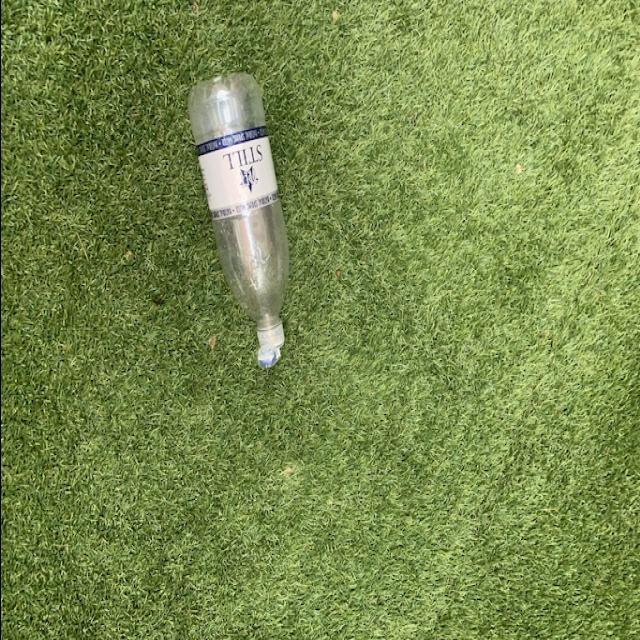litter: (182, 61, 290, 390)
